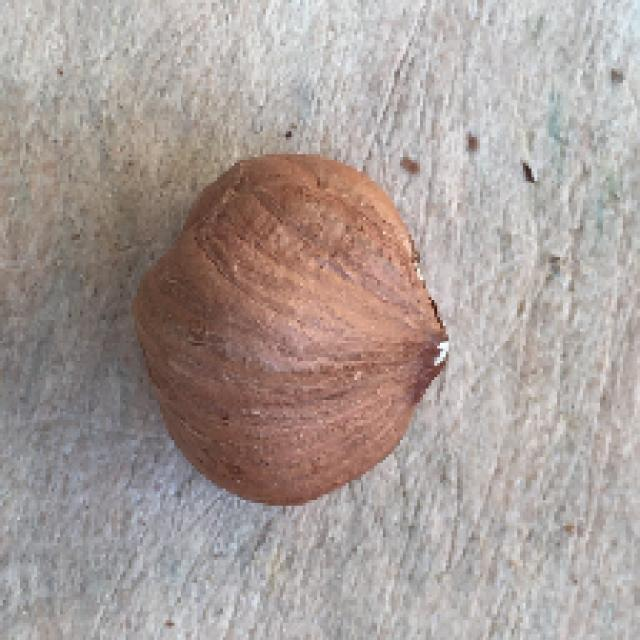hazelnut: (122, 135, 464, 507)
